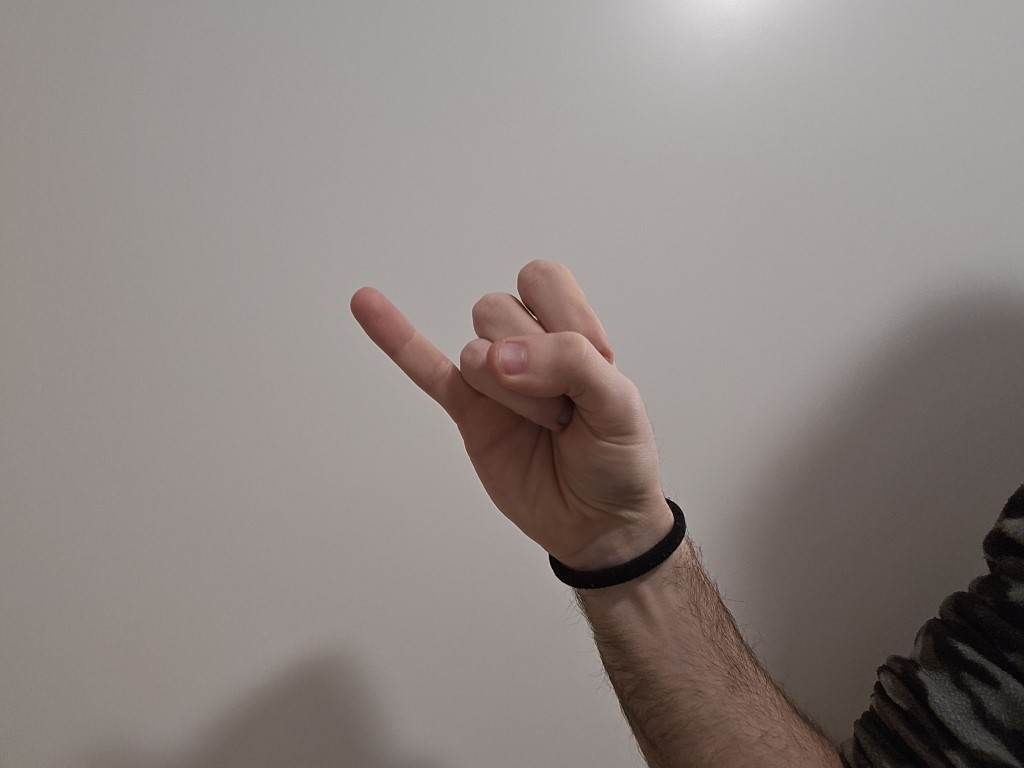j: (305, 251, 668, 535)
